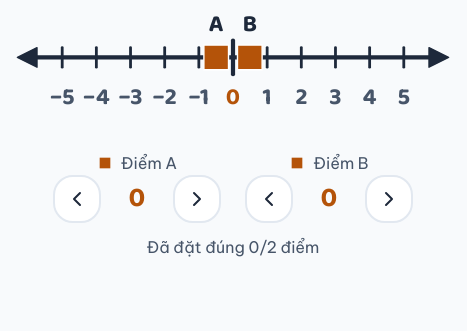
Test: LineTry › on a lesson screen counts the points set right, never in an exercise
Expected: the text "Đã đặt đúng 0/2 điểm" is shown, [147,235,319,259]
Click the button named "Sang trái 1 đơn vị, điểm A".
click(77, 199)  # box [53,175,101,223]
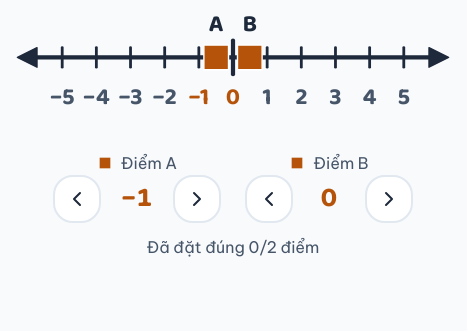
Click the button named "Sang trái 1 đơn vị, điểm A".
click(77, 199)  # box [53,175,101,223]
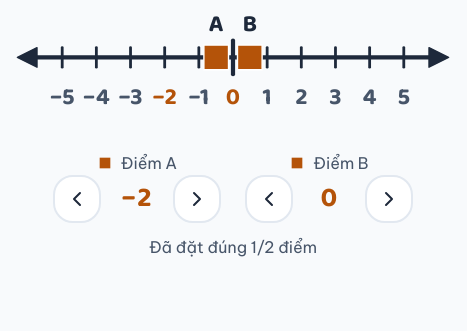
Click the button named "Sang phải 1 đơn vị, điểm B".
click(389, 199)  # box [365,175,413,223]
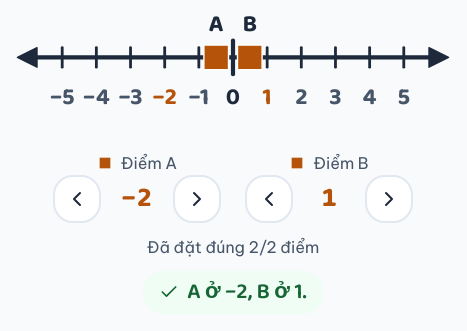
Now the text "Đã đặt đúng 2/2 điểm" is shown, box [147,235,319,259]
Now the text "A ở −2, B ở 1." is shown, box [143,271,323,314]
